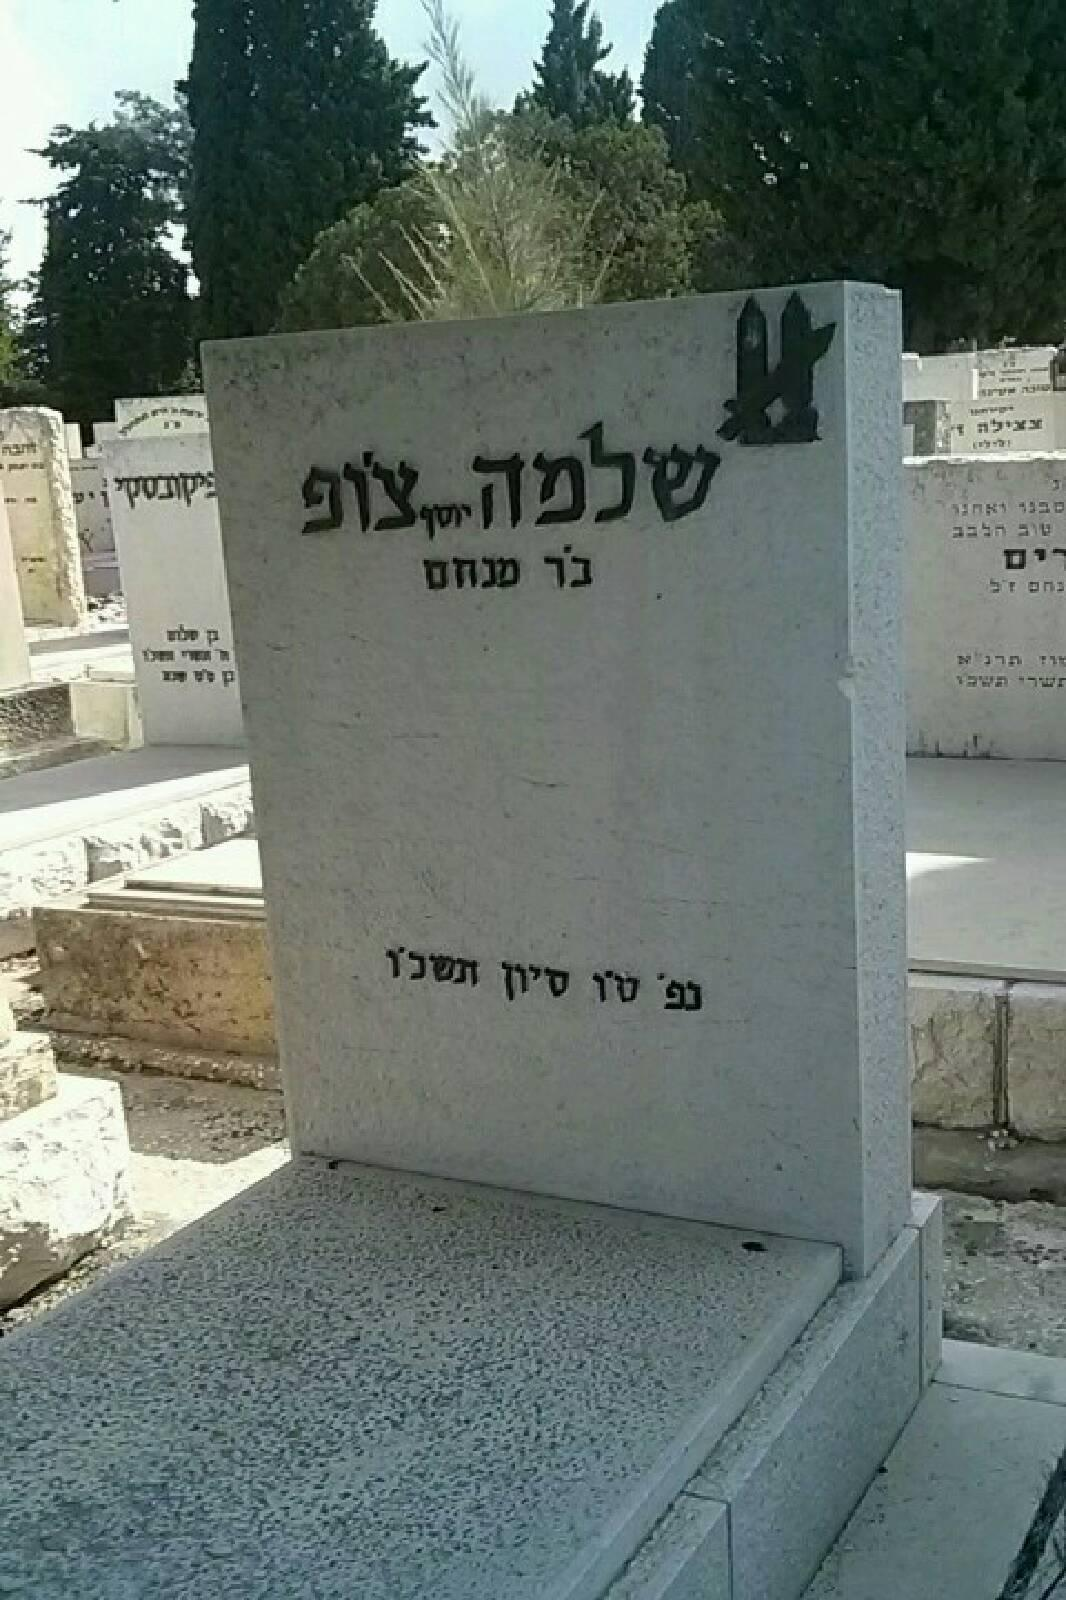plaque: (0, 286, 1060, 1592)
